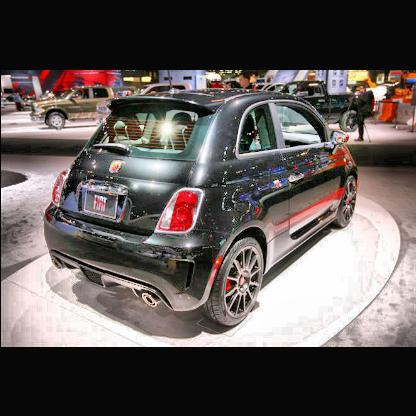FIAT 500 Abarth 2012: (45, 70, 360, 330)
